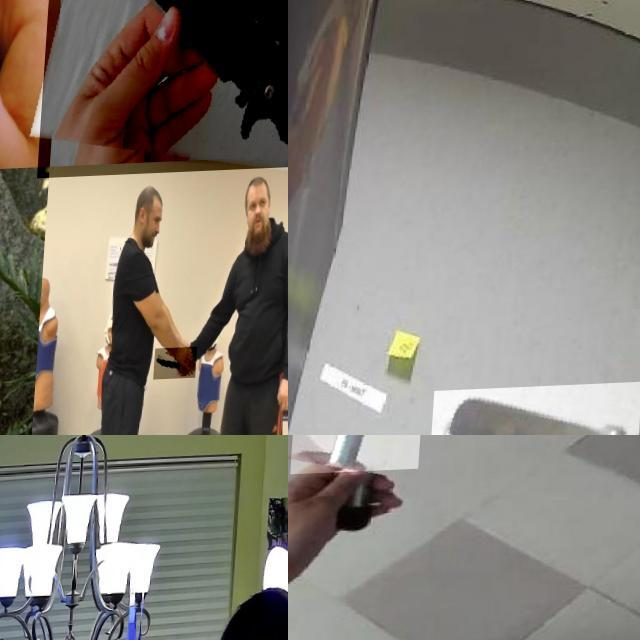-: (41, 0, 288, 181), (0, 0, 120, 148), (296, 435, 435, 540), (432, 385, 640, 435), (0, 224, 30, 435), (160, 352, 204, 384)
